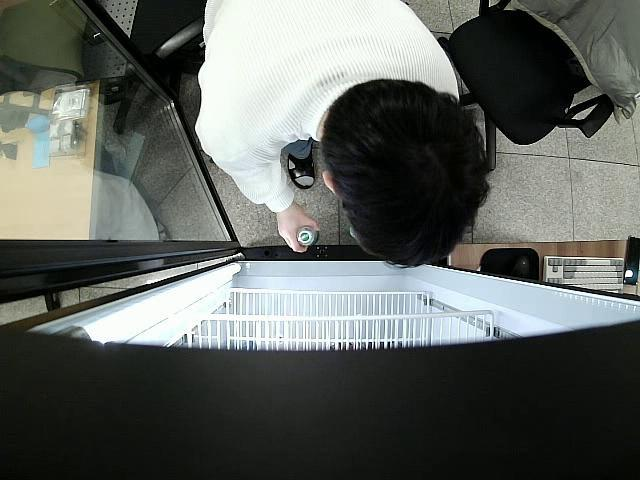18_trevi: (296, 226, 318, 250)
